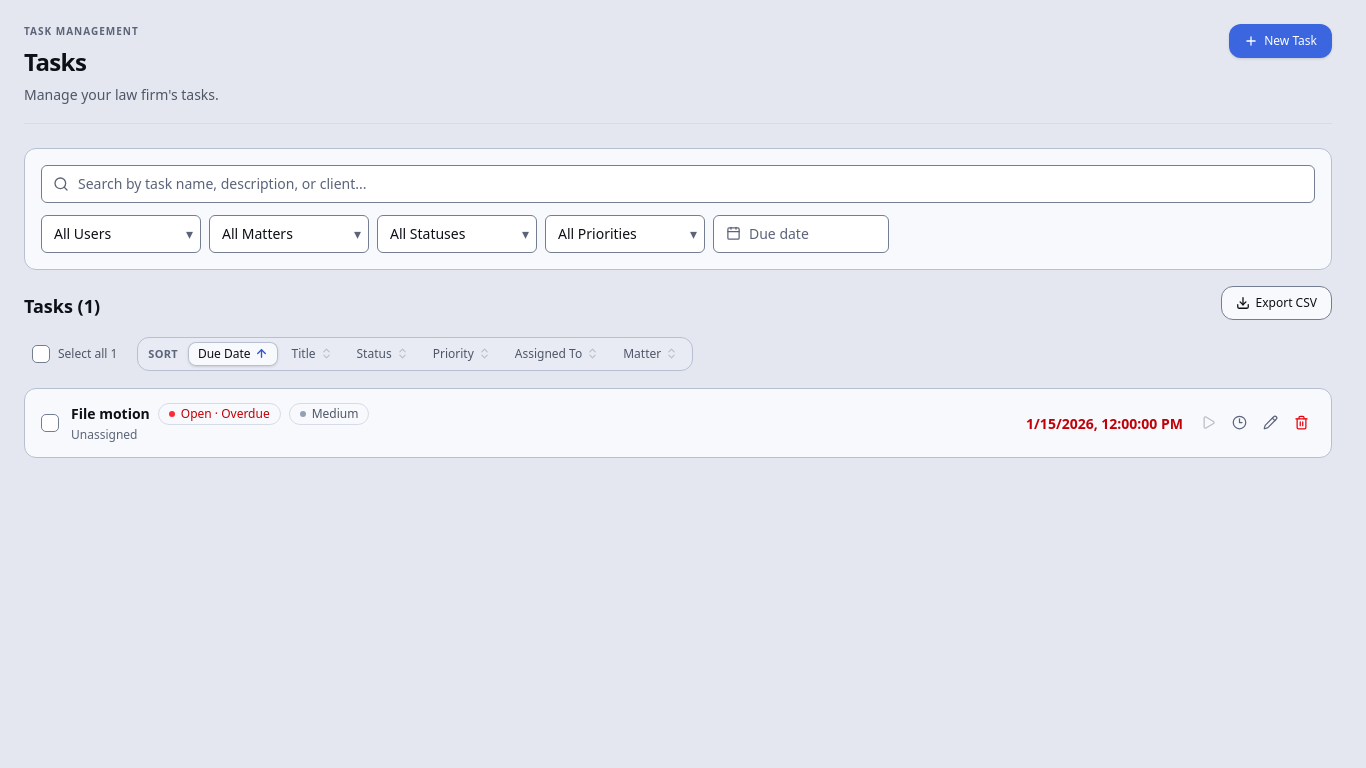
Test: a refused action: the delete fails › tells the user the task was not deleted, and leaves it in the list
The image size is (1366, 768).
Check: the text "File motion" is shown, box [71,404,150,424]
Click the button named "Delete".
click(1302, 423)  # box [1288,409,1315,436]
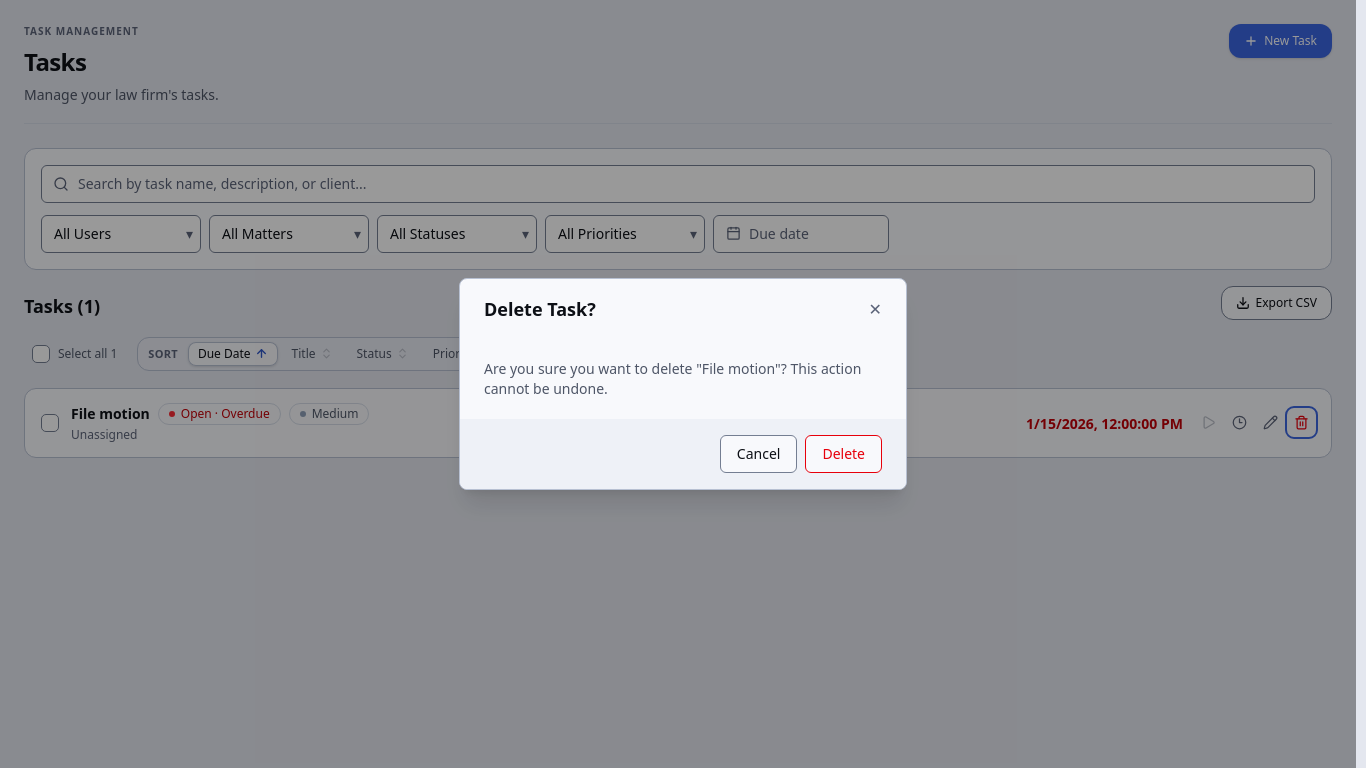
Click the button "Delete".
click(844, 454)  # box [805,435,882,473]
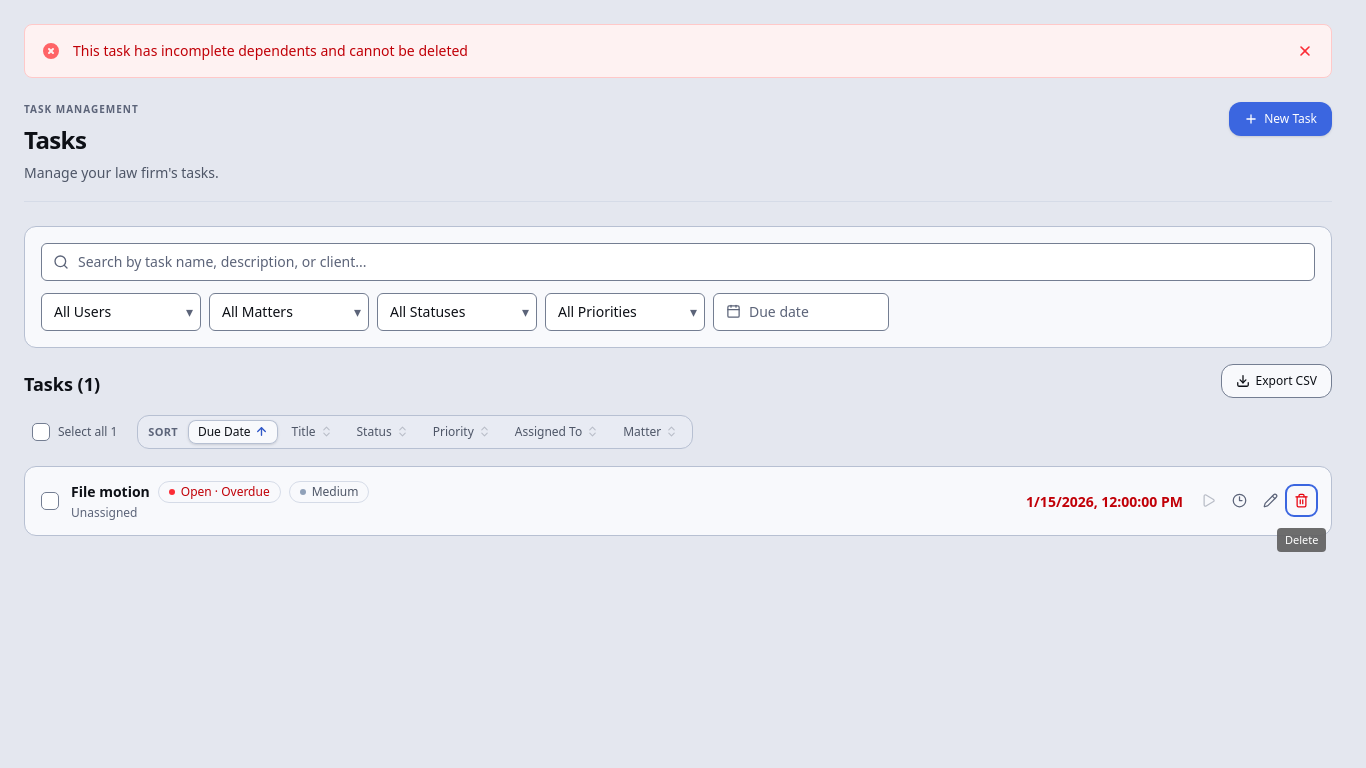
Check: the text "File motion" is shown, box [71,482,150,502]
Check: the text "This task has incomplete dependents and cannot be deleted" is shown, box [73,41,468,60]
